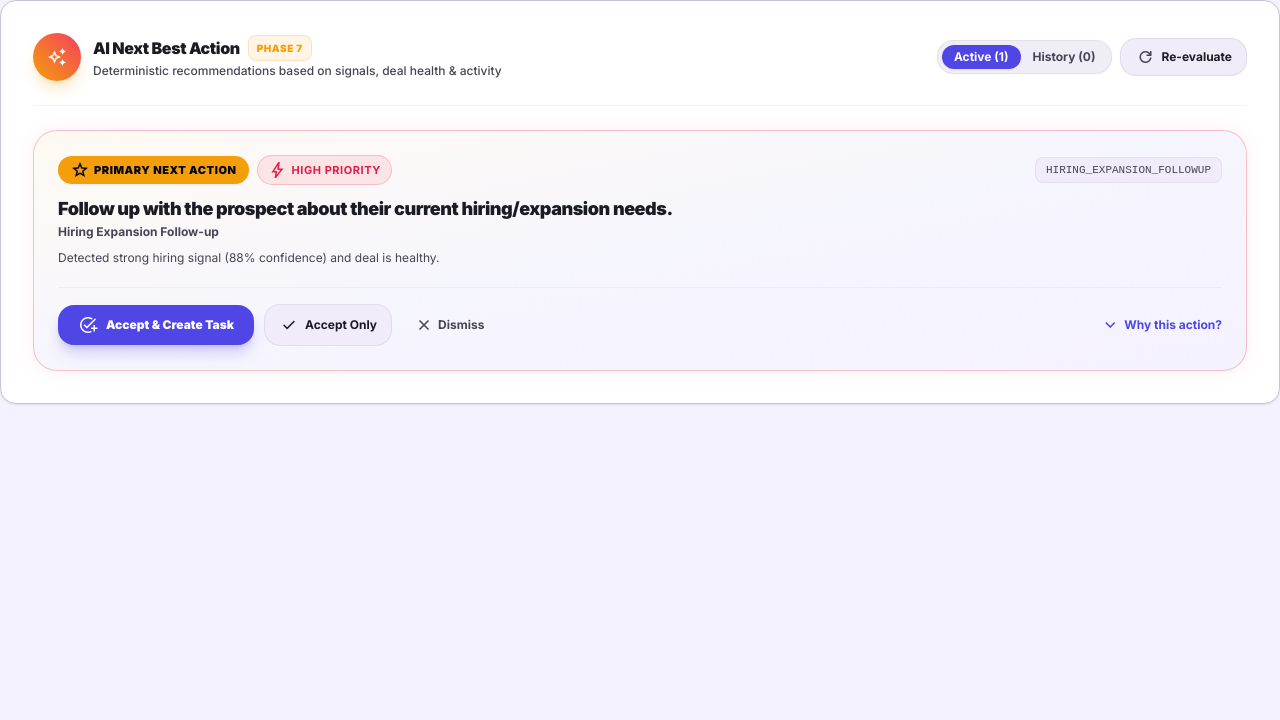
Test: NextBestActionCard › toggles evidence drawer and shows concrete criteria
This screenshot has width=1280, height=720.
Click the button "Why this action?": (1161,325) [1100,315,1222,335]
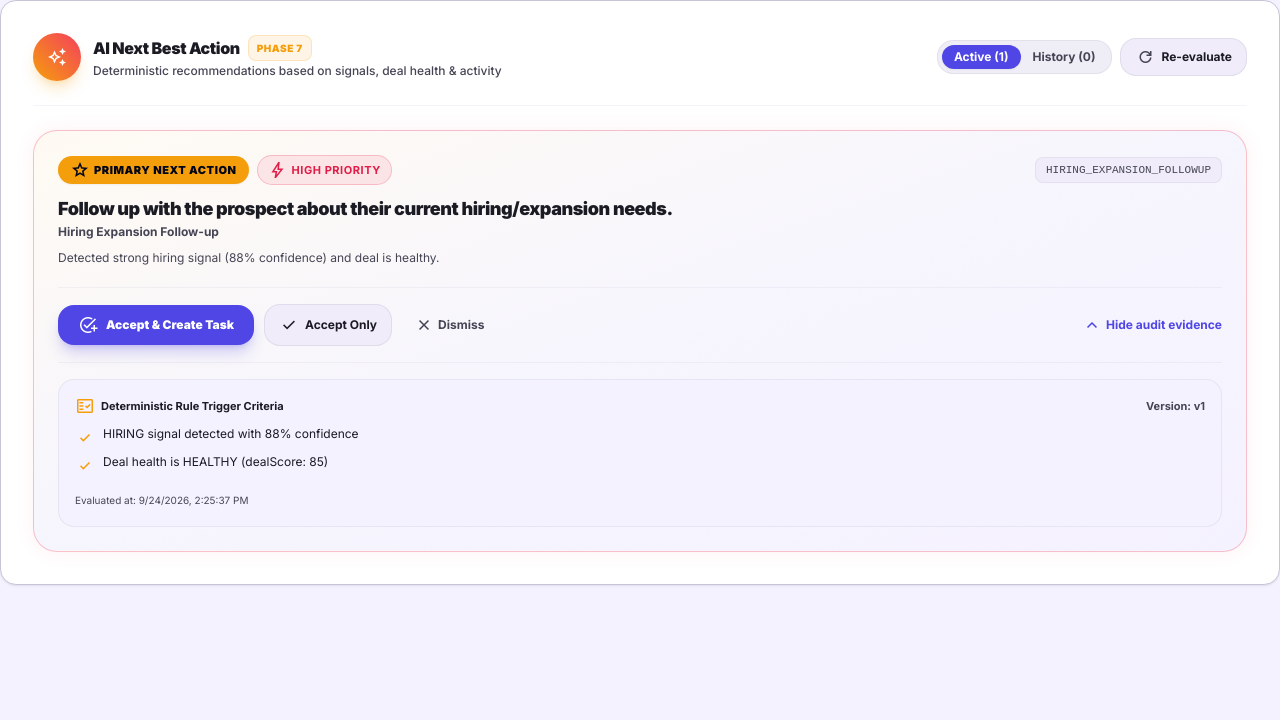
Result: the text "HIRING signal detected with 88% confidence" is shown at [103,426,359,442]
Result: the button "Hide audit evidence" is shown at [1082,315,1222,335]
